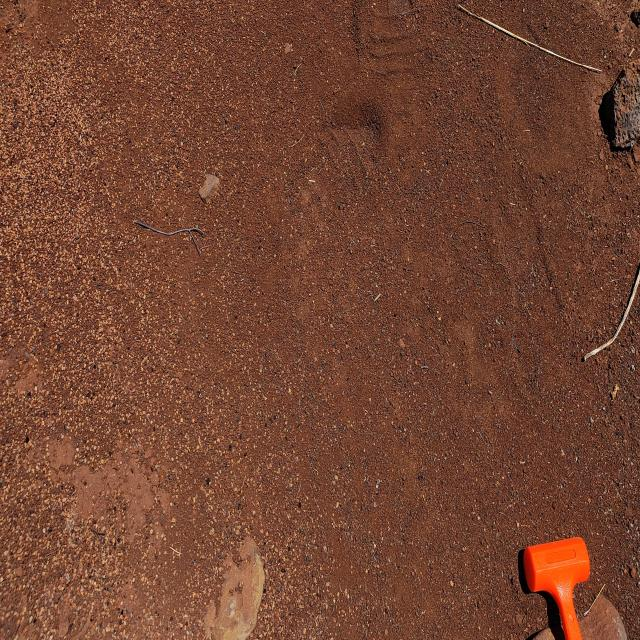Orange_hammer: (522, 534, 590, 638)
